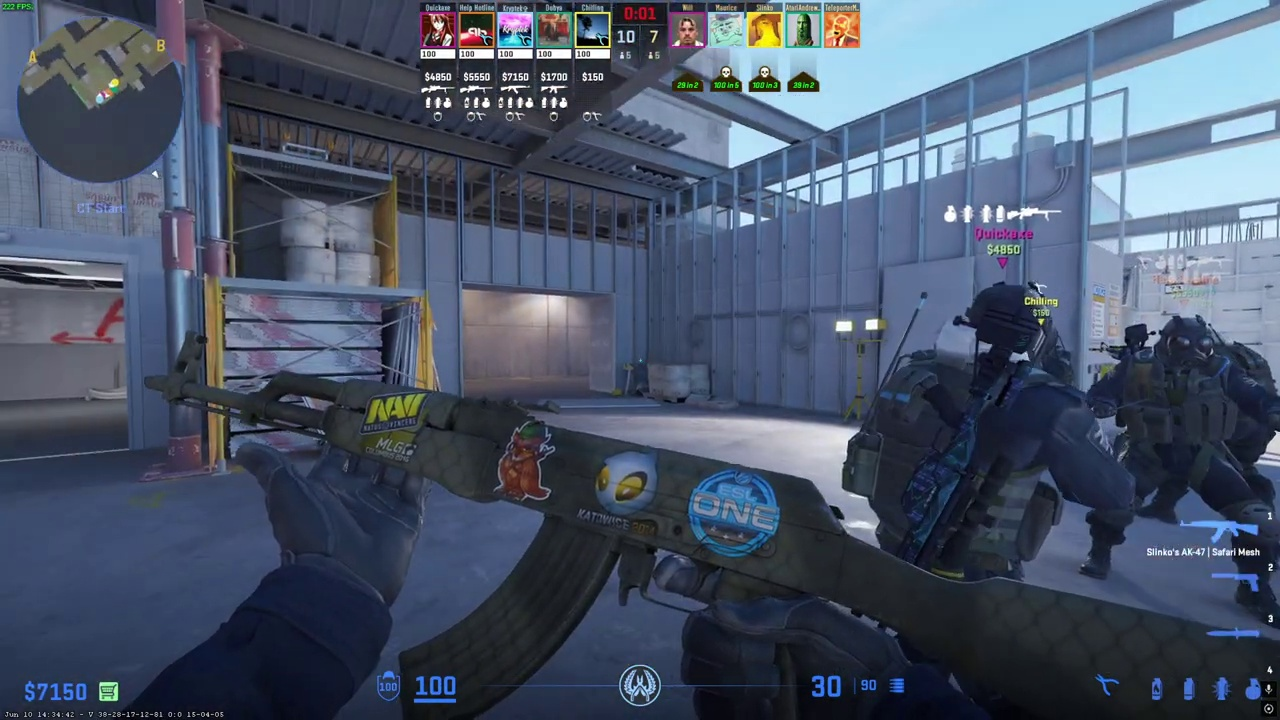CT: (870, 282, 1076, 572), (1091, 313, 1277, 613)
